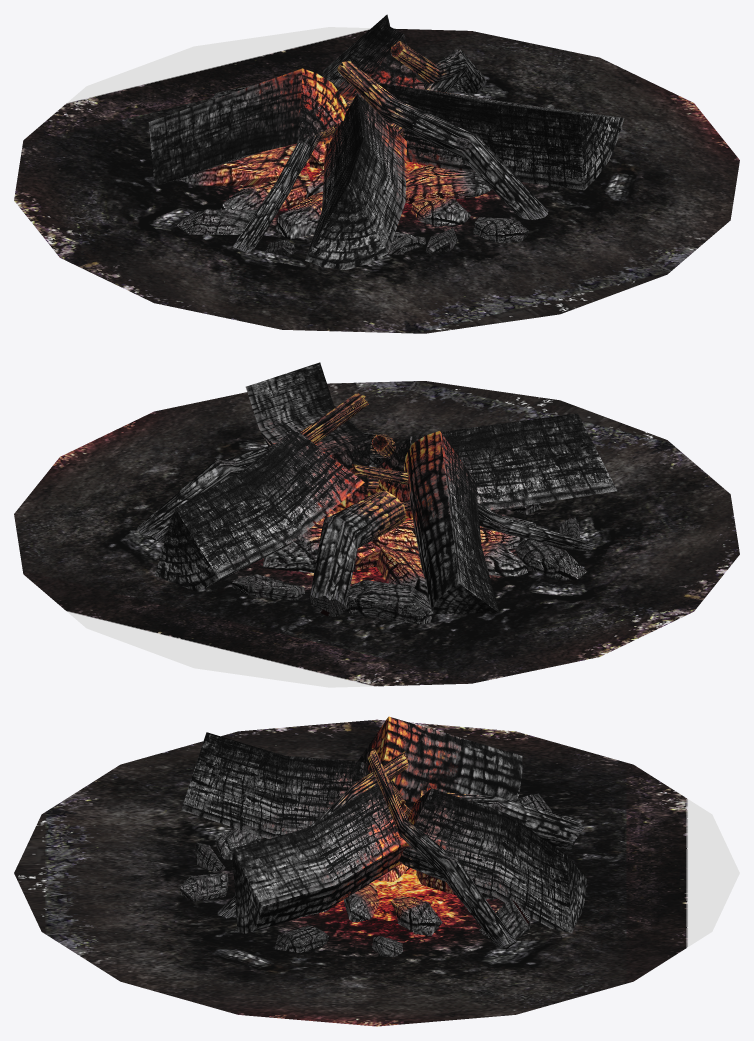
File: Firewood1.gltf
3 views of the same model, one above another, from view 1: azimuth 30°, elevation 25°; view 2: azimuth 150°, elevation 25°; view 3: azimuth 270°, elevation 25° (orthographic).
Parts seen in each view (by area): view 1: Fireground1, Firewood; view 2: Fireground1, Firewood; view 3: Fireground1, Firewood, Fireground2.
Boxes of the visible parts, x1,y1,x2,y2 form: Fireground1: [14, 27, 739, 333]; Firewood: [148, 14, 624, 269]; Fireground1: [14, 381, 739, 687]; Firewood: [137, 362, 617, 624]; Fireground1: [14, 719, 739, 1026]; Firewood: [179, 716, 586, 957]; Fireground2: [332, 868, 452, 912].
Size of the model in its own units: 0.8418 by 0.192 by 0.8418.
2 materials, 2 textured.
